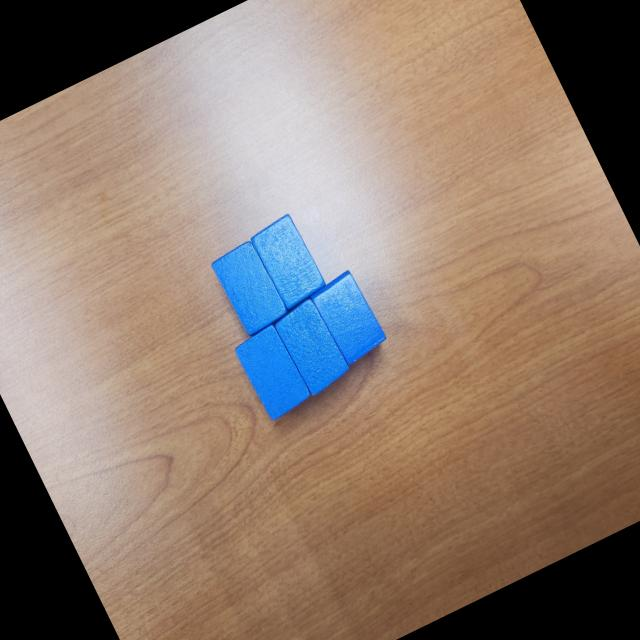blue: (269, 292, 355, 398), (230, 322, 316, 424), (246, 210, 332, 312), (306, 266, 392, 368), (208, 238, 292, 339)
